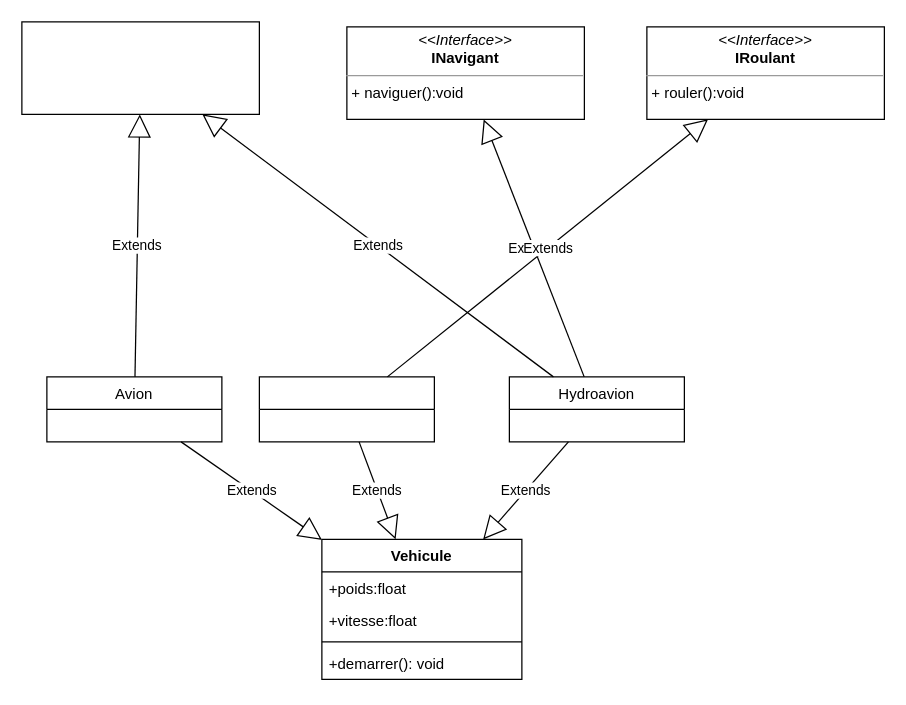
The diagram is 906 pixels wide and 705 high, and some of its shapes have lost their labels. Here are the shapes that lost their labels. From the top down, the centre of each, then its label:
At pixel 140 67: "<<Interface>> IVolant + voler():void".
At pixel 346 409: "Voiture".
